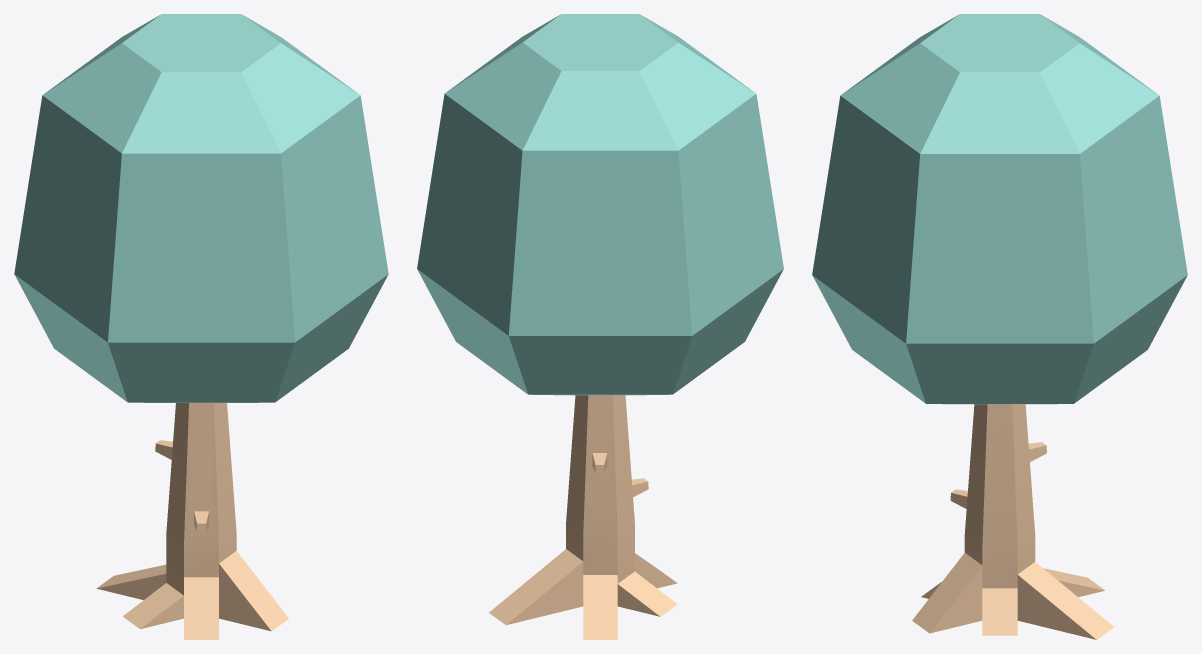
File: tree_oak.glb
The picture shows the model from 3 angles, left to right: view 1: azimuth 30°, elevation 25°; view 2: azimuth 150°, elevation 25°; view 3: azimuth 270°, elevation 25°; orthographic projection. The views are drawn at different scales.
Parts seen in each view (by area): view 1: tree_oak; view 2: tree_oak; view 3: tree_oak.
Part boxes in pixels (x1=…): tree_oak: x1=14, y1=14, x2=388, y2=639; tree_oak: x1=417, y1=14, x2=783, y2=639; tree_oak: x1=812, y1=14, x2=1187, y2=639.
Size of the model in its own units: 0.6406 by 1.23 by 0.7396.
